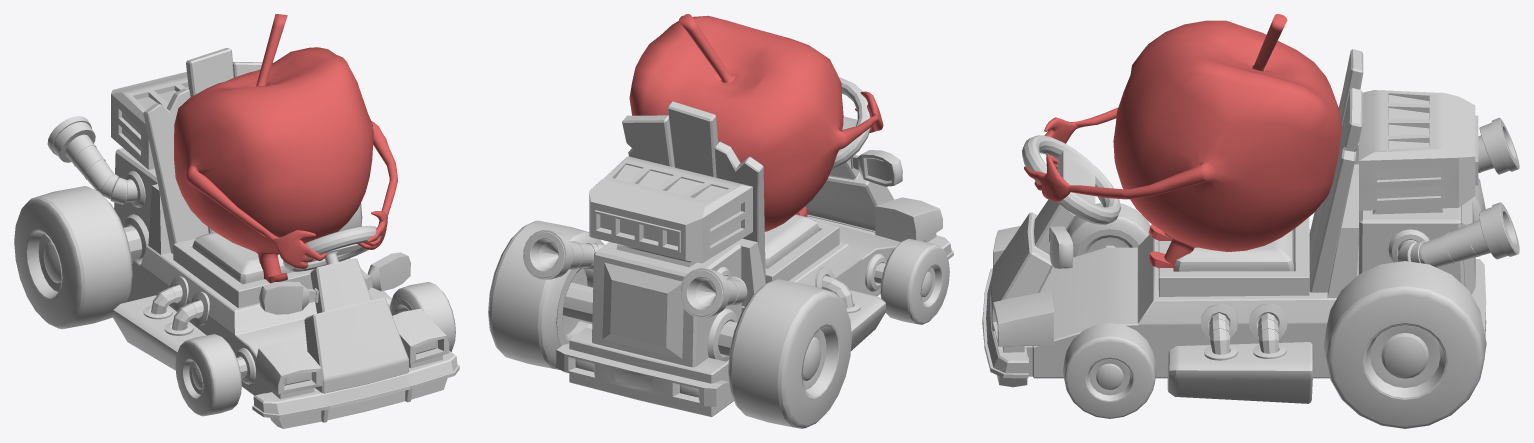
The model's file is maca_kart.fbx.
3 renders of one model, left to right at view 1: azimuth 30°, elevation 25°; view 2: azimuth 150°, elevation 25°; view 3: azimuth 270°, elevation 25°, orthographic. The views are drawn at different scales.
Visible parts, largest first — view 1: Maca_geo; view 2: Maca_geo; view 3: Maca_geo.
Boxes of the visible parts, x1,y1,x2,y2 form: Maca_geo: (14,14,459,428); Maca_geo: (488,14,953,428); Maca_geo: (982,14,1519,428).
Size of the model in its own units: 155 by 159 by 217.
